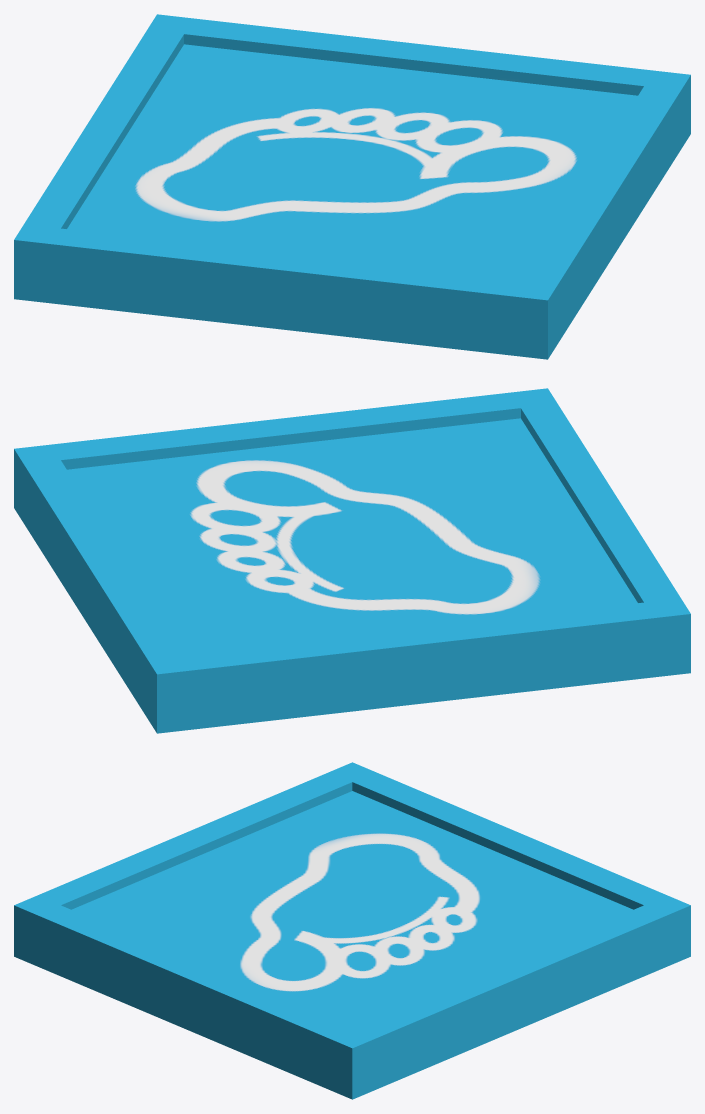
File: 方块脚.fbx
The picture shows the model from 3 angles, top to bottom: view 1: azimuth 30°, elevation 25°; view 2: azimuth 150°, elevation 25°; view 3: azimuth 270°, elevation 25°; orthographic projection. The views are drawn at different scales.
Parts seen in each view (by area): view 1: 立方体; view 2: 立方体; view 3: 立方体.
Part boxes in pixels (x1,y1,x2,y2): 立方体: [14, 14, 690, 359]; 立方体: [14, 388, 690, 733]; 立方体: [14, 762, 690, 1099].
Bounding box in the file's own units: 25.46 × 2.13 × 25.46.
